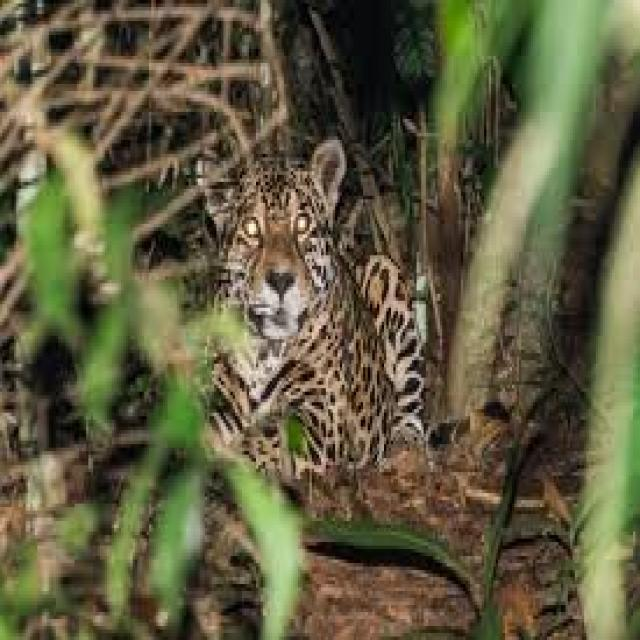Jaguar: (193, 137, 428, 476)
